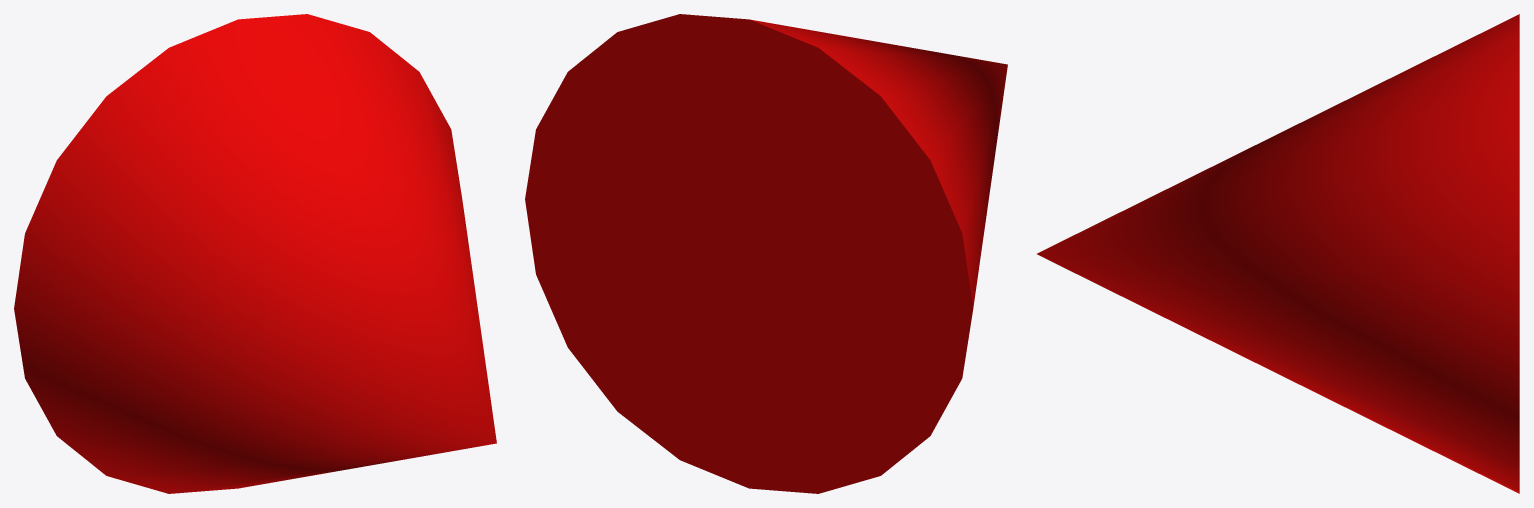
Rendered from PrimitiveCone.fbx.
3 views of the same model, side by side, from view 1: azimuth 30°, elevation 25°; view 2: azimuth 150°, elevation 25°; view 3: azimuth 270°, elevation 25° (orthographic). The views are drawn at different scales.
Parts seen in each view (by area): view 1: PrimitiveCone; view 2: PrimitiveCone; view 3: PrimitiveCone.
Boxes of the visible parts, x1,y1,x2,y2 form: PrimitiveCone: (14, 14, 496, 493); PrimitiveCone: (525, 14, 1007, 493); PrimitiveCone: (1037, 14, 1519, 493).
Size of the model in its own units: 100 by 100 by 100.
